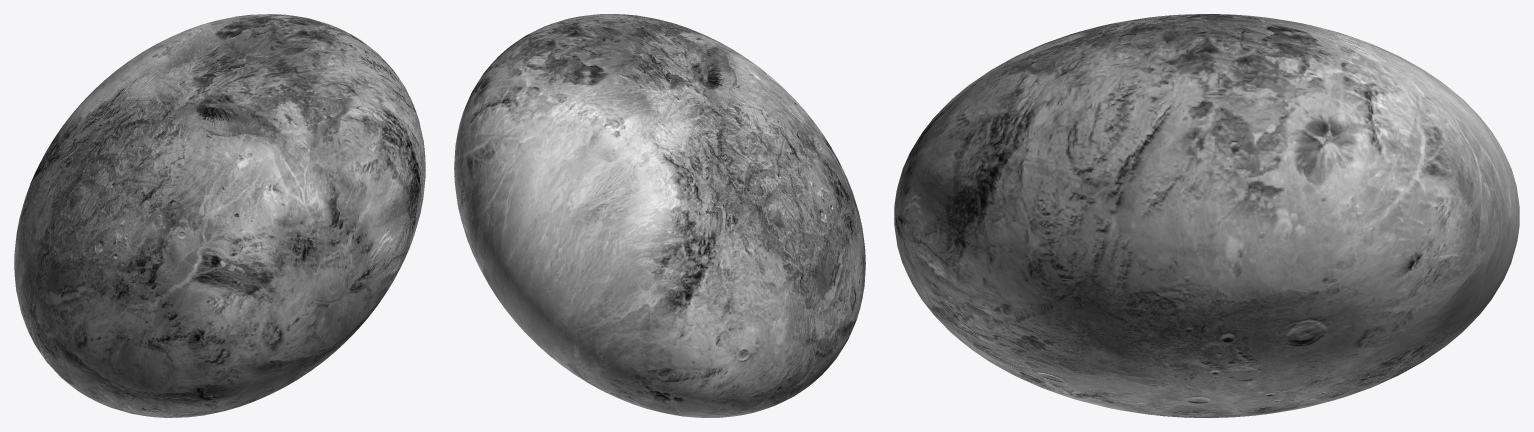
Rendered from Haumea.glb.
The picture shows the model from 3 angles, left to right: view 1: azimuth 30°, elevation 25°; view 2: azimuth 150°, elevation 25°; view 3: azimuth 270°, elevation 25°; orthographic projection. The views are drawn at different scales.
Visible parts, largest first — view 1: Neptune; view 2: Neptune; view 3: Neptune.
Boxes of the visible parts, box(x1,y1,x2,y2) form: Neptune: box(14, 14, 425, 417); Neptune: box(454, 14, 865, 417); Neptune: box(894, 14, 1519, 417).
Bounding box in the file's own units: 1.03 × 0.9277 × 1.18.
1 material, 1 textured.
